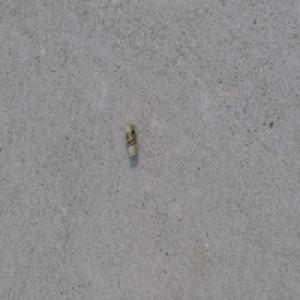BoltNutSet: (125, 124, 140, 157)
